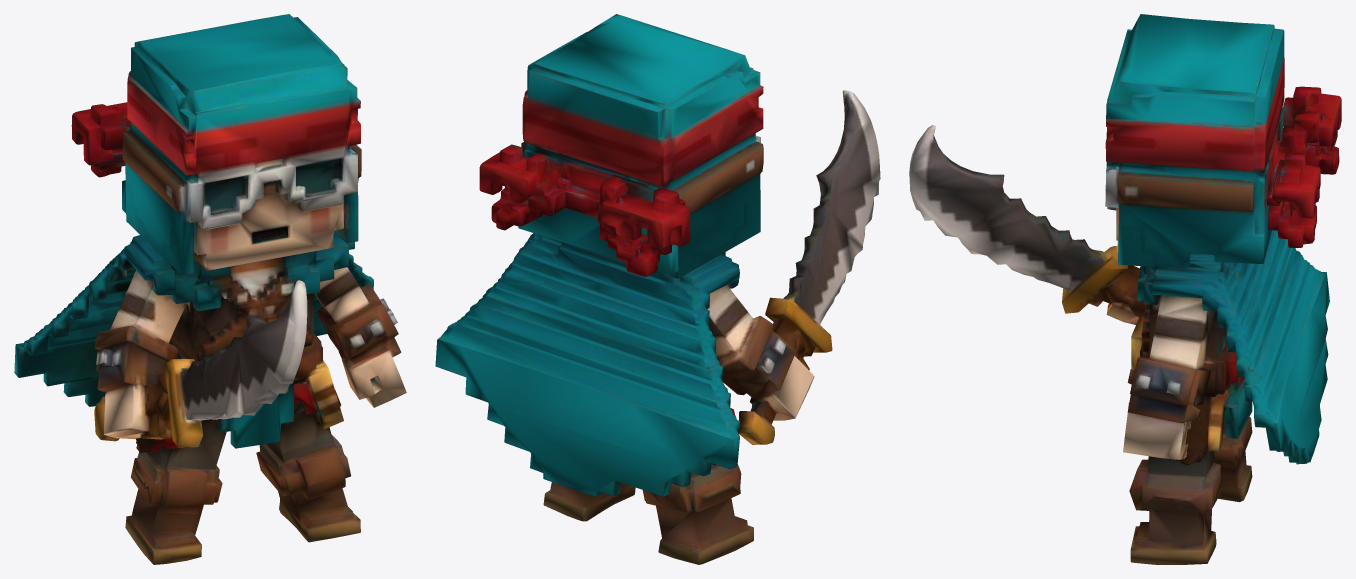
The model's file is hero.glb.
3 renders of one model, left to right at view 1: azimuth 30°, elevation 25°; view 2: azimuth 150°, elevation 25°; view 3: azimuth 270°, elevation 25°, orthographic.
Parts seen in each view (by area): view 1: node_0; view 2: node_0; view 3: node_0.
Part boxes in pixels (x1,y1,x2,y2): node_0: (14,14,406,564); node_0: (435,14,880,564); node_0: (909,14,1341,564).
Size of the model in its own units: 0.7295 by 1.02 by 0.8473.
1 material, 1 textured.
